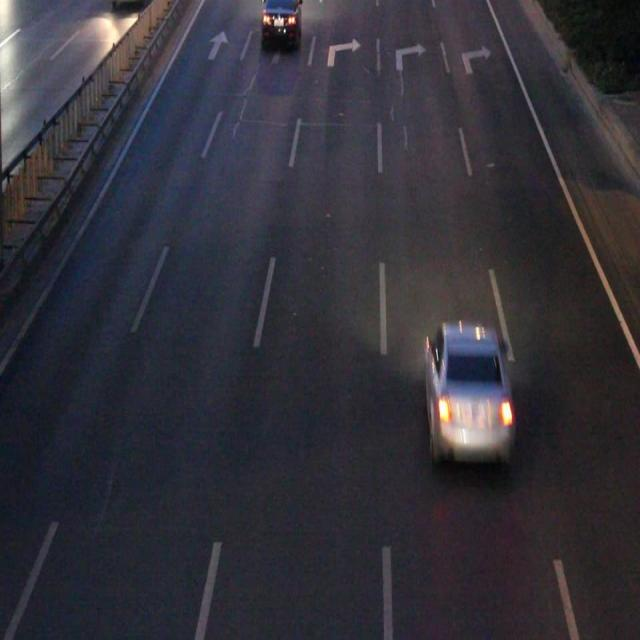car: (426, 322, 509, 459), (262, 1, 299, 42)
